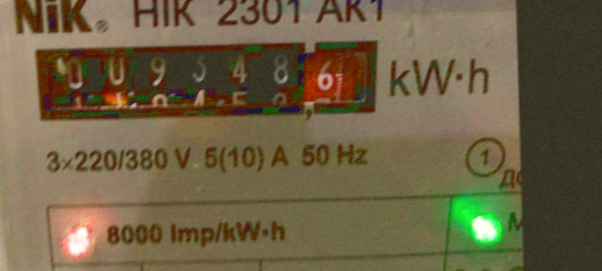0: (106, 54, 128, 90), (65, 57, 86, 92)
3: (188, 52, 211, 85)
4: (228, 51, 250, 89)
6: (315, 59, 338, 93)
8: (271, 52, 292, 87)
9: (149, 54, 168, 88)
screen: (13, 26, 400, 139)
